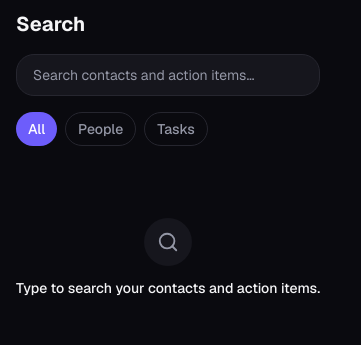
it: SearchPage › shows an inline error instead of failing silently when the fetch throws
Type "alice" into the field with placeholder "Search contacts and action items…".
click(168, 75); type("alice")  # box [16,54,320,96]
Wait 300 ms
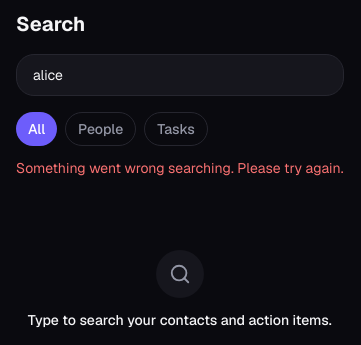
Expected: the text "Something went wrong searching. Please try again." is shown, [16,158,344,178]
